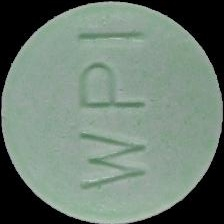42254-196: (0, 0, 224, 224)
